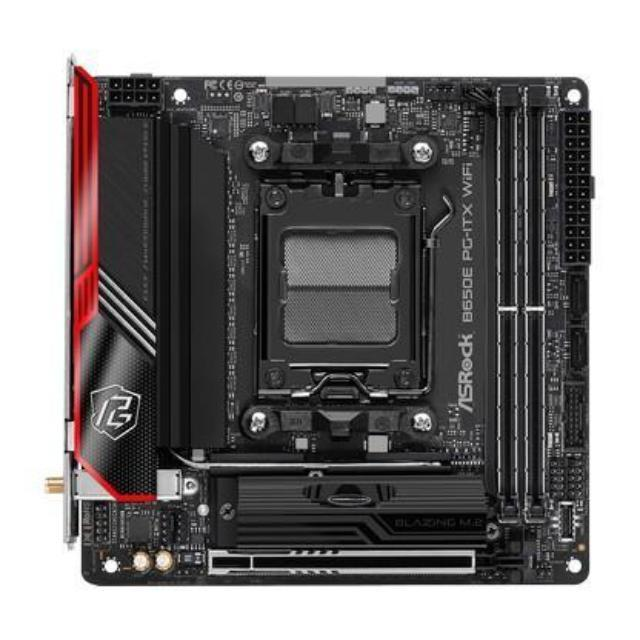Mainboard: (61, 50, 598, 595)
